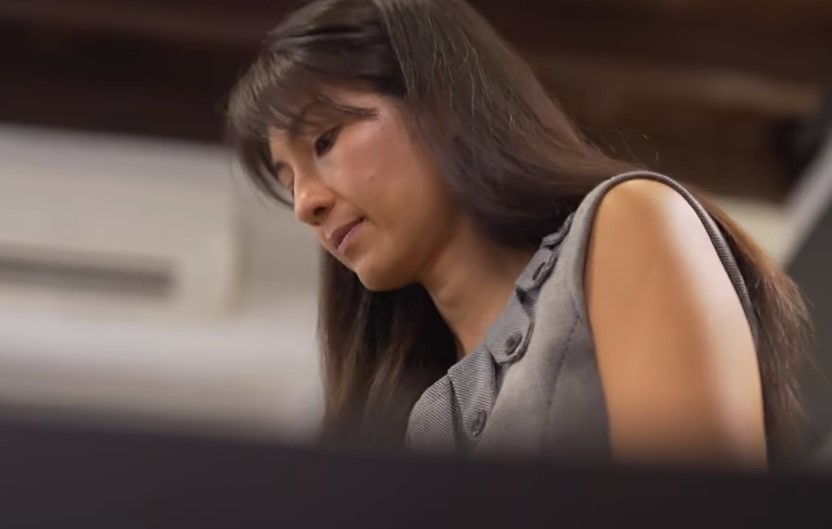face_no_mask: (240, 11, 486, 301)
